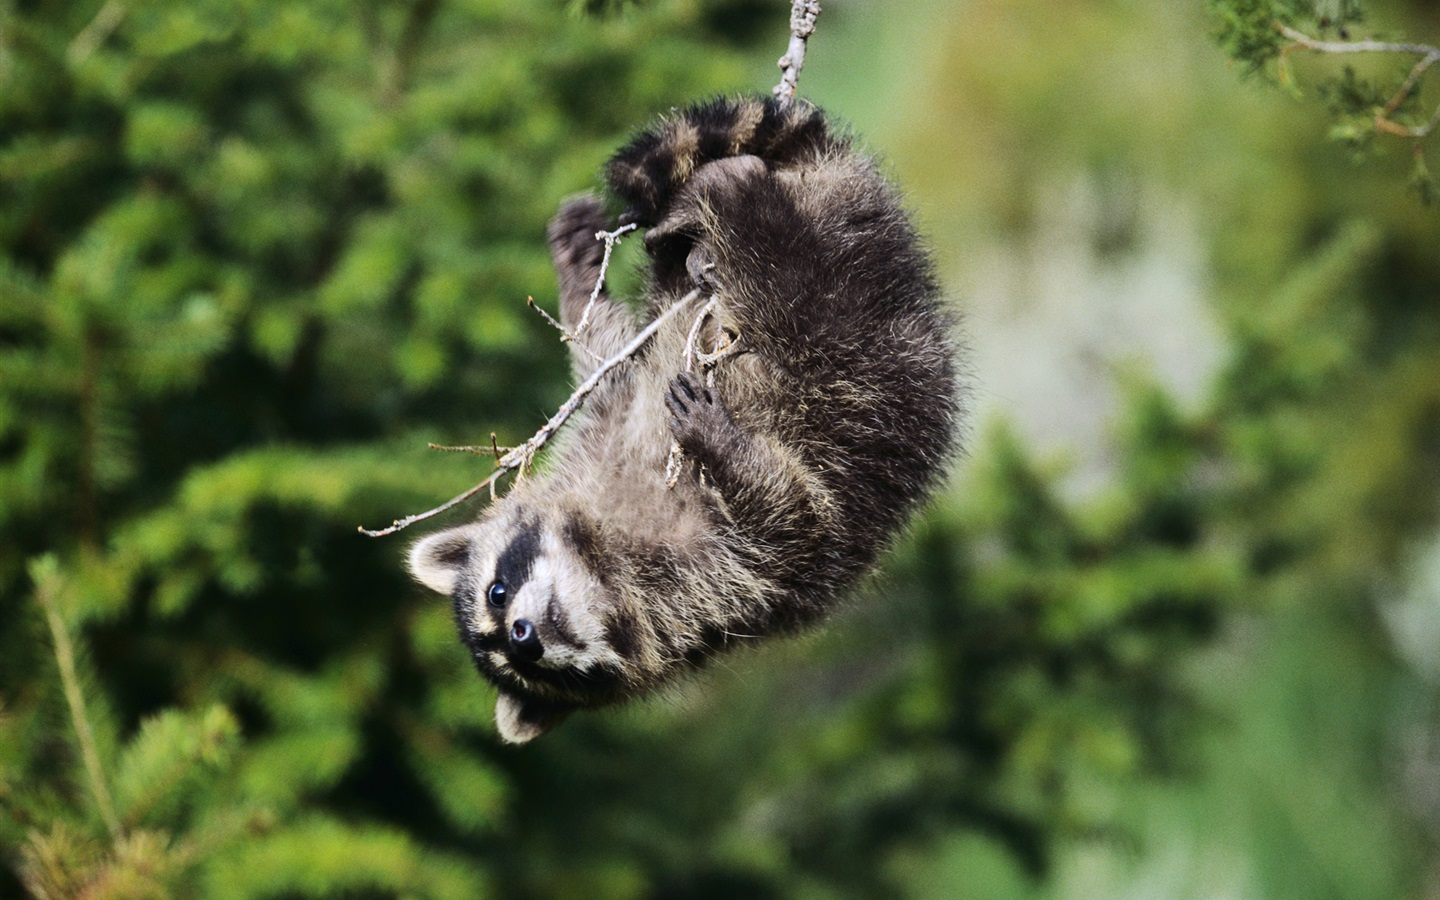raccoon: (411, 75, 976, 764)
